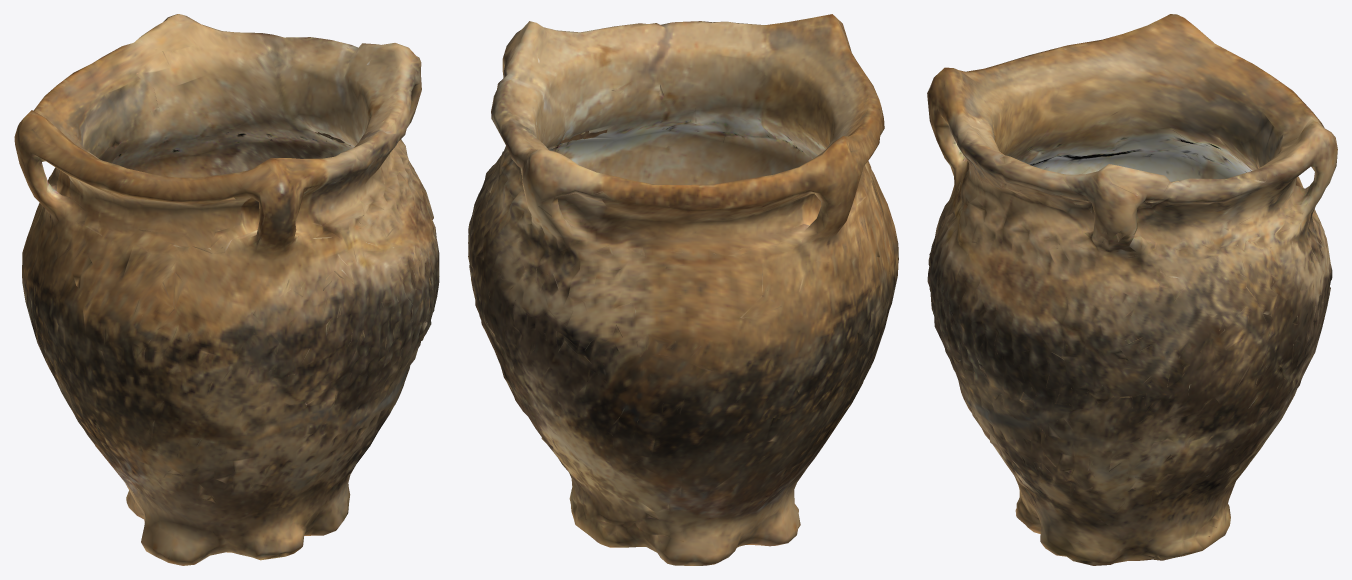
3 renders of one model, left to right at view 1: azimuth 30°, elevation 25°; view 2: azimuth 150°, elevation 25°; view 3: azimuth 270°, elevation 25°, orthographic. The views are drawn at different scales.
Visible parts, largest first — view 1: IN0239_low; view 2: IN0239_low; view 3: IN0239_low.
Part boxes in pixels (left/top/right/bottom): IN0239_low: left=14, top=14, right=439, bottom=565; IN0239_low: left=468, top=14, right=898, bottom=565; IN0239_low: left=927, top=14, right=1337, bottom=565.
Size of the model in its own units: 137 by 156 by 131.
1 material, 1 textured.
